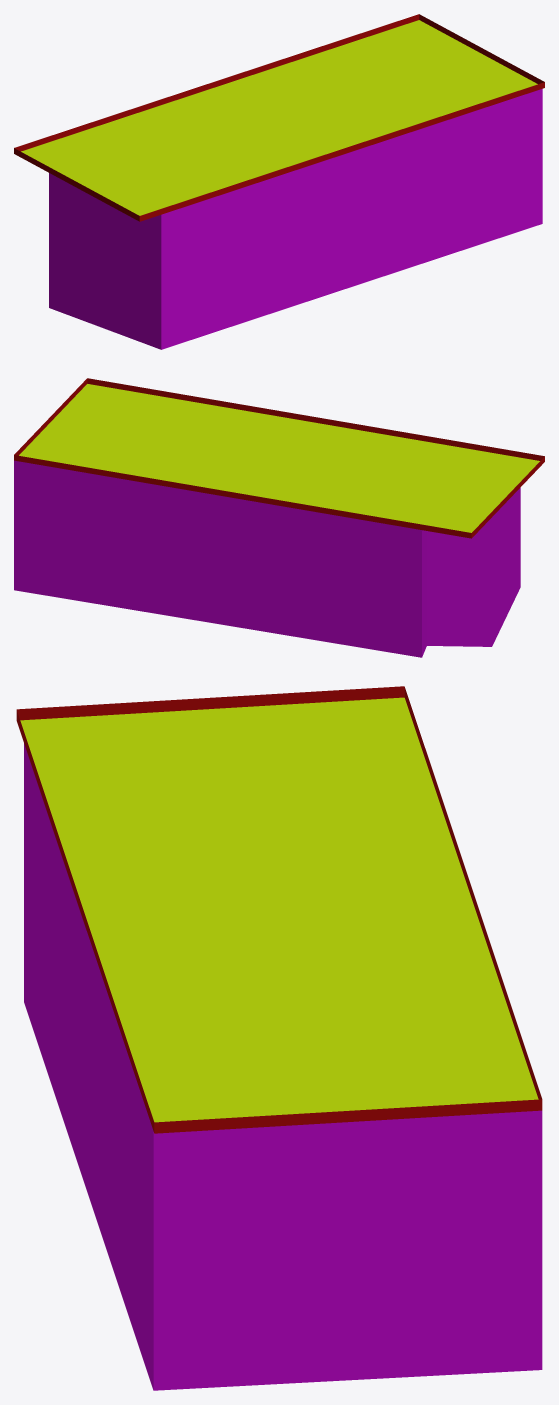
File: ssv_26.glb
3 views of the same model, one above another, from view 1: azimuth 30°, elevation 25°; view 2: azimuth 150°, elevation 25°; view 3: azimuth 270°, elevation 25° (orthographic). The views are drawn at different scales.
Visible parts, largest first — view 1: ssv_26; view 2: ssv_26; view 3: ssv_26.
Part boxes in pixels (x1=…): ssv_26: x1=14, y1=14, x2=544, y2=349; ssv_26: x1=14, y1=378, x2=544, y2=657; ssv_26: x1=16, y1=686, x2=542, y2=1390.
Bounding box in the file's own units: 29.08 × 8.41 × 14.81.
